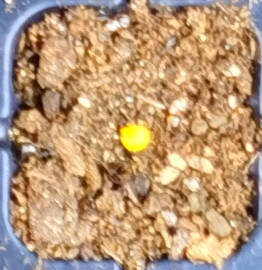pepper seed: (40, 42, 195, 195)
